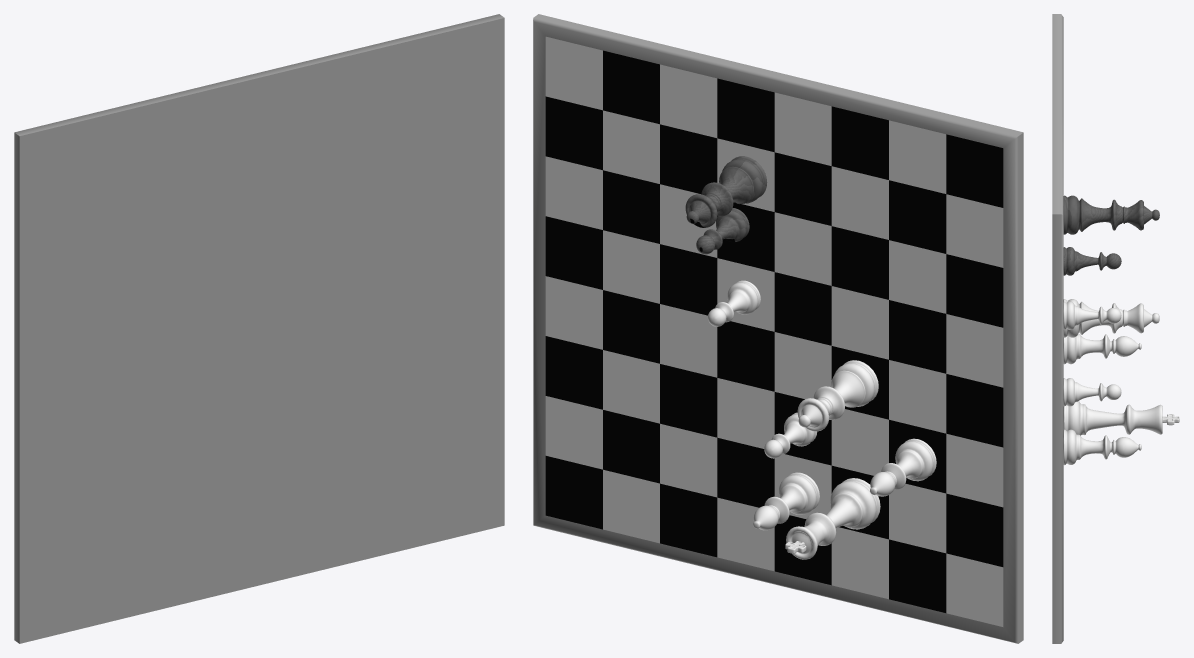
Rendered from chess.gltf.
The picture shows the model from 3 angles, left to right: view 1: azimuth 30°, elevation 25°; view 2: azimuth 150°, elevation 25°; view 3: azimuth 270°, elevation 25°; orthographic projection. The views are drawn at different scales.
Visible parts, largest first — view 1: chessboard.sides; view 2: white_squares2, black_squares2, chessboard.sides, king.white, black_queen3, queen.white, bishop1.white, bishop2.white, pawn1.white, black_pawn3, pawn2.white; view 3: chessboard.sides, king.white, black_queen3, bishop1.white, bishop2.white, queen.white, black_pawn3, pawn2.white, pawn1.white.
Boxes of the visible parts, box(x1,y1,x2,y2) form: chessboard.sides: box(14, 14, 504, 643); white_squares2: box(545, 36, 1003, 626); black_squares2: box(545, 50, 1003, 612); chessboard.sides: box(533, 14, 1023, 643); king.white: box(785, 478, 880, 559); black_queen3: box(685, 156, 767, 227); queen.white: box(797, 360, 878, 431); bishop1.white: box(753, 472, 819, 530); bishop2.white: box(870, 438, 936, 496); pawn1.white: box(707, 280, 760, 326); black_pawn3: box(696, 208, 749, 254); pawn2.white: box(764, 412, 817, 458); chessboard.sides: box(1052, 14, 1063, 643); king.white: box(1063, 401, 1179, 435); black_queen3: box(1063, 195, 1159, 234); bishop1.white: box(1063, 429, 1141, 465); bishop2.white: box(1063, 334, 1141, 364); queen.white: box(1063, 299, 1159, 337); black_pawn3: box(1063, 247, 1121, 275); pawn2.white: box(1063, 378, 1121, 406); pawn1.white: box(1063, 301, 1121, 329).
Bounding box in the file's own units: 0.424 × 0.424 × 0.1139.
Materials: 11 (2 with a texture image).
